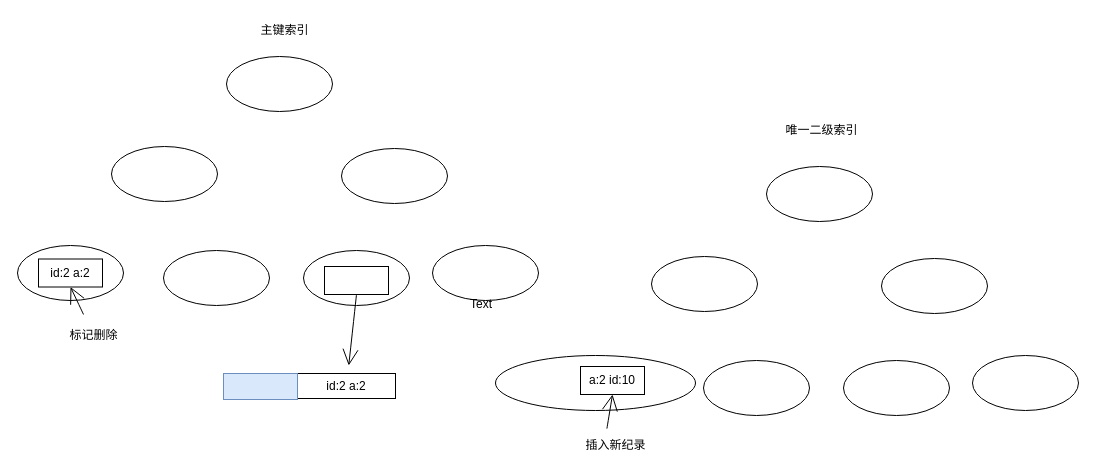
This 1096x475 diagram has some shape labels left out. The box of each missing label's shape, as (x1, y1, x2, y2) in pixels:
id:10 a:2: (324, 266, 388, 294)
Undo Log: (222, 372, 298, 400)
